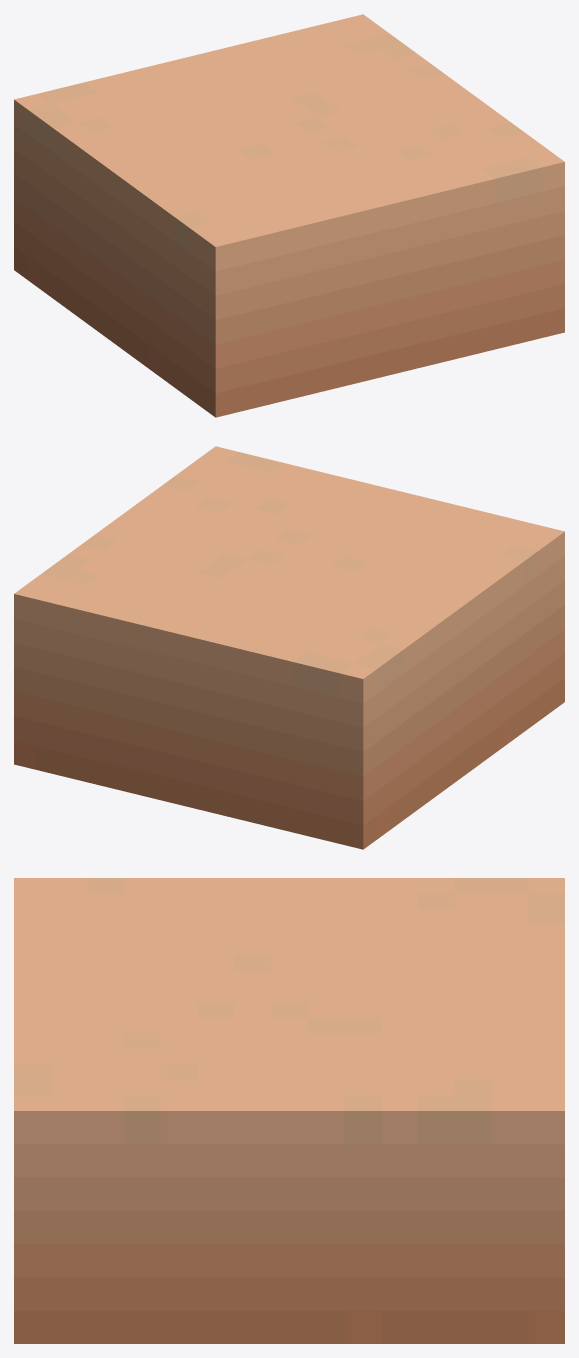
The model's file is tower-square-base-border.glb.
3 renders of one model, top to bottom at view 1: azimuth 30°, elevation 25°; view 2: azimuth 150°, elevation 25°; view 3: azimuth 270°, elevation 25°, orthographic. The views are drawn at different scales.
Parts seen in each view (by area): view 1: tower-square-base-border; view 2: tower-square-base-border; view 3: tower-square-base-border.
Boxes of the visible parts, x1,y1,x2,y2 form: tower-square-base-border: [14, 14, 564, 417]; tower-square-base-border: [14, 446, 564, 849]; tower-square-base-border: [14, 878, 564, 1343].
Bounding box in the file's own units: 1.07 × 0.4998 × 1.07.
Materials: 1 (1 with a texture image).
